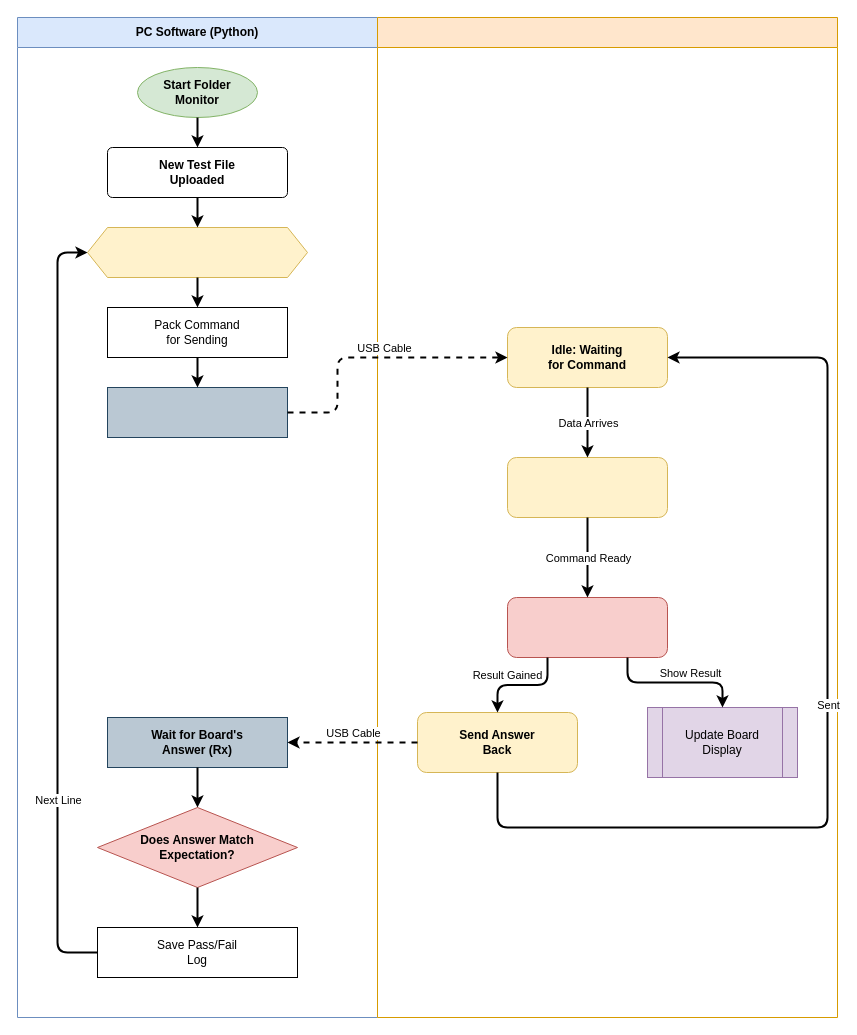
This 857x1035 diagram has some shape labels left out. Each missing label, with the box of its shape:
Do the Calculation (Calculate): (506, 596, 668, 658)
Hardware Board (FPGA): (376, 16, 838, 1018)
Read Next Line in Test: (86, 226, 308, 278)
Receive & Read Command: (506, 456, 668, 518)
Send Command to Board (Tx): (106, 386, 288, 438)
